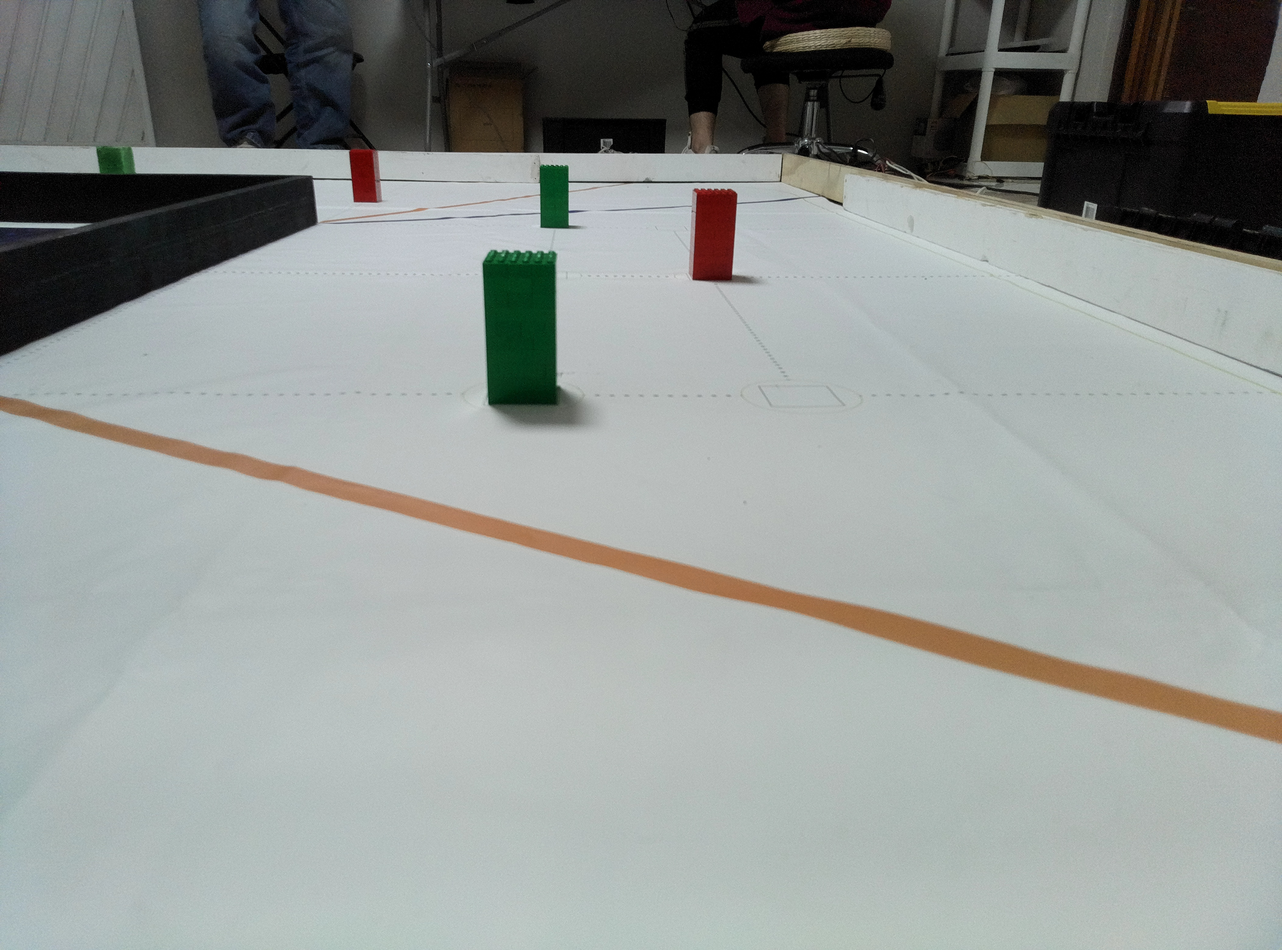greenbox: (477, 252, 567, 406), (537, 167, 571, 227), (94, 144, 138, 175)
redbox: (695, 191, 738, 284), (346, 144, 382, 202)
